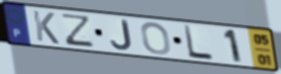1: (223, 28, 244, 64)
J: (109, 19, 134, 52)
K: (31, 9, 61, 46)
L: (182, 24, 216, 62)
O: (140, 21, 173, 56)
Z: (62, 12, 96, 48)
